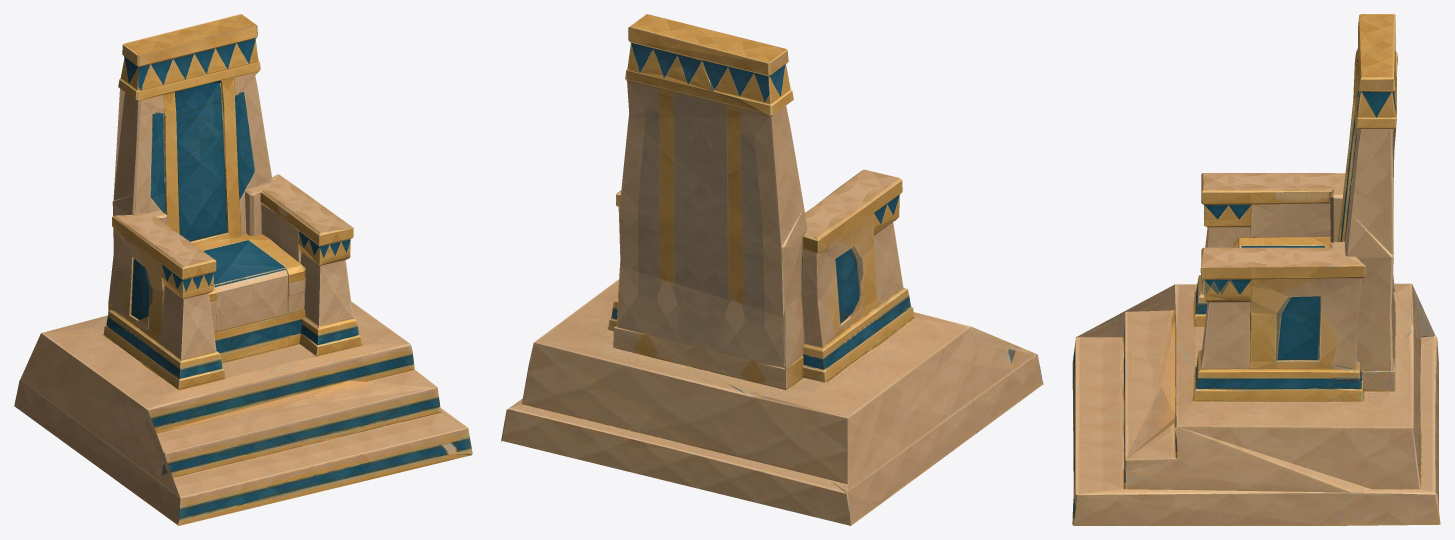
File: palace-throne.glb
3 views of the same model, side by side, from view 1: azimuth 30°, elevation 25°; view 2: azimuth 150°, elevation 25°; view 3: azimuth 270°, elevation 25° (orthographic). The views are drawn at different scales.
Bounding box in the file's own units: 1.64 × 1.9 × 1.58.
Materials: 1 (1 with a texture image).
